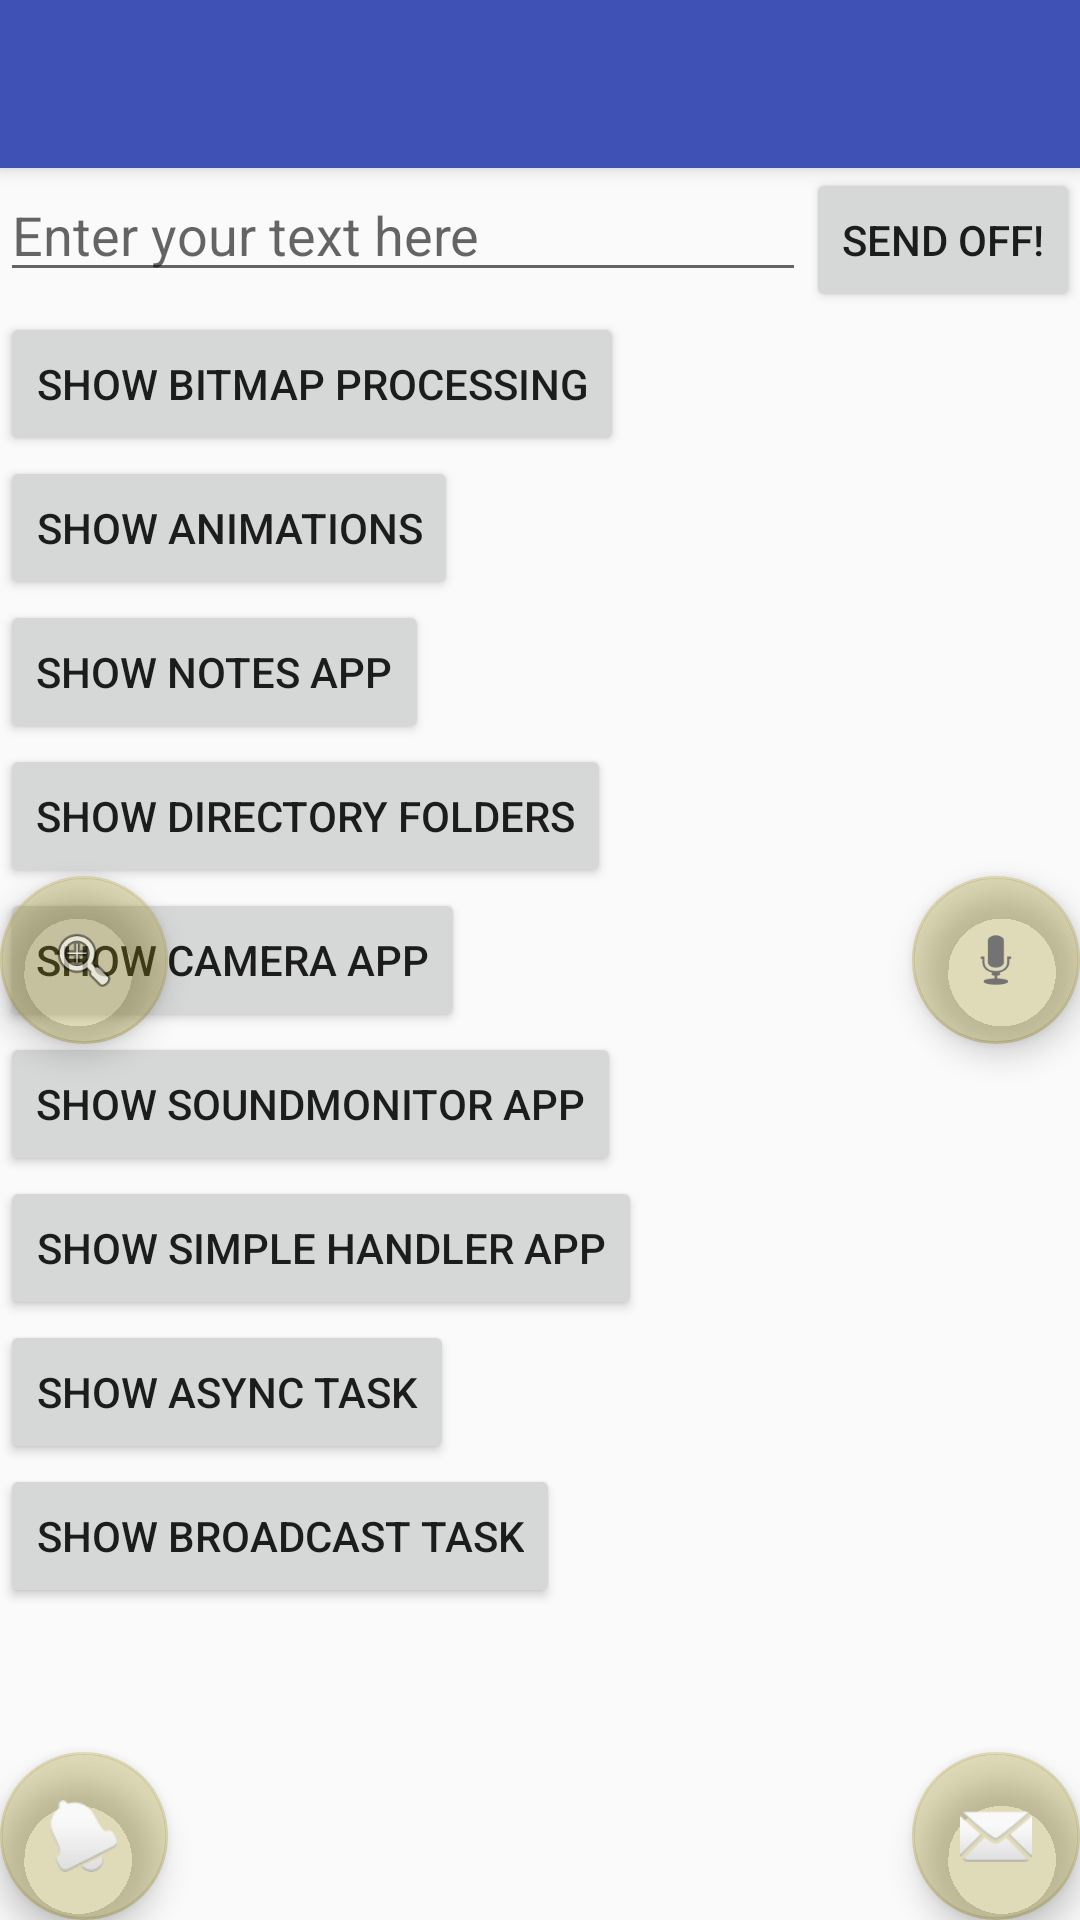

Named icons in this screenshot (1080 × 1920) and their bounding boxes, {"x1": x1, "y1": y1, "x2": x2, "y2": y2}:
email: {"x1": 912, "y1": 1752, "x2": 1080, "y2": 1920}
popup reminder: {"x1": 0, "y1": 1752, "x2": 168, "y2": 1920}
speak now: {"x1": 912, "y1": 876, "x2": 1080, "y2": 1044}
